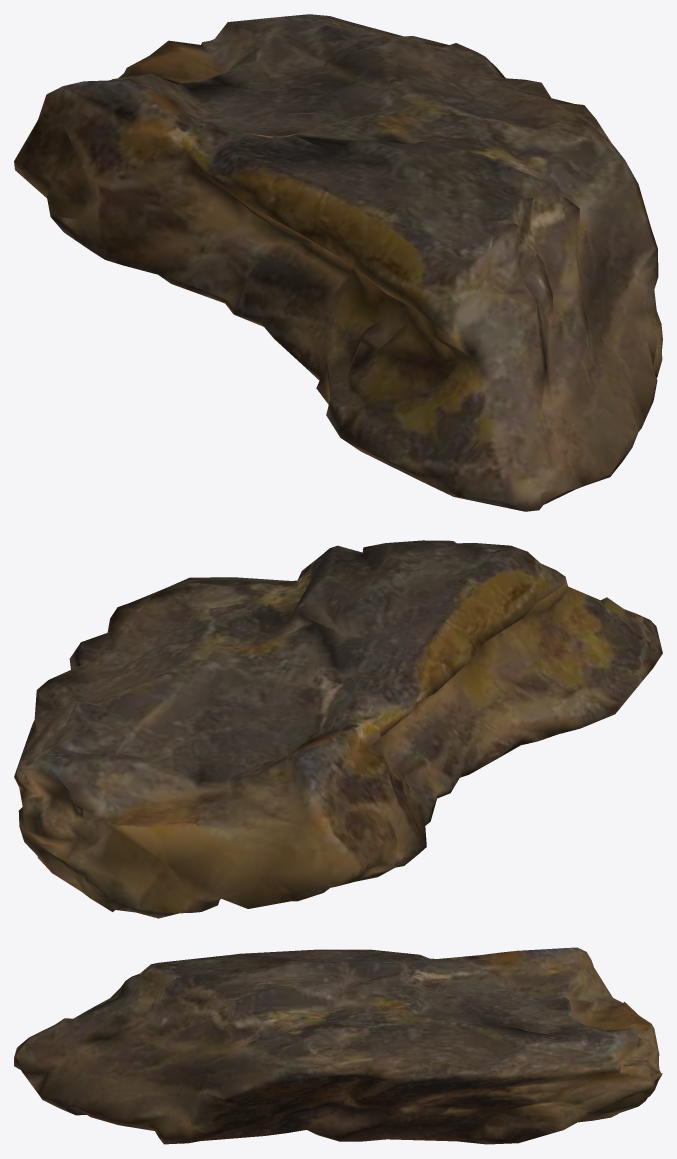
The model's file is rock_09.glb.
The picture shows the model from 3 angles, top to bottom: view 1: azimuth 30°, elevation 25°; view 2: azimuth 150°, elevation 25°; view 3: azimuth 270°, elevation 25°; orthographic projection. The views are drawn at different scales.
Parts seen in each view (by area): view 1: rock_09_LOD0; view 2: rock_09_LOD0; view 3: rock_09_LOD0.
Part boxes in pixels (x1=…): rock_09_LOD0: x1=14, y1=14, x2=662, y2=511; rock_09_LOD0: x1=14, y1=540, x2=662, y2=918; rock_09_LOD0: x1=14, y1=947, x2=662, y2=1144.
Bounding box in the file's own units: 0.0738 × 0.0325 × 0.1446.
1 material, 1 textured.
